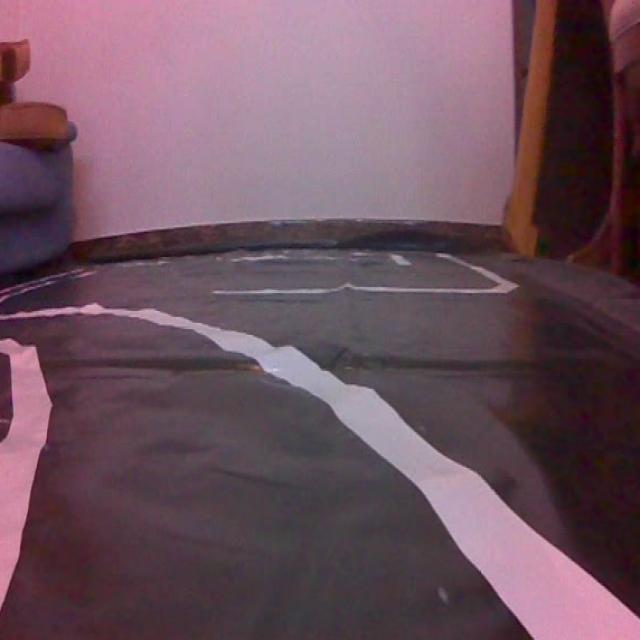LineaCarril: (41, 304, 640, 640), (0, 339, 53, 608)
